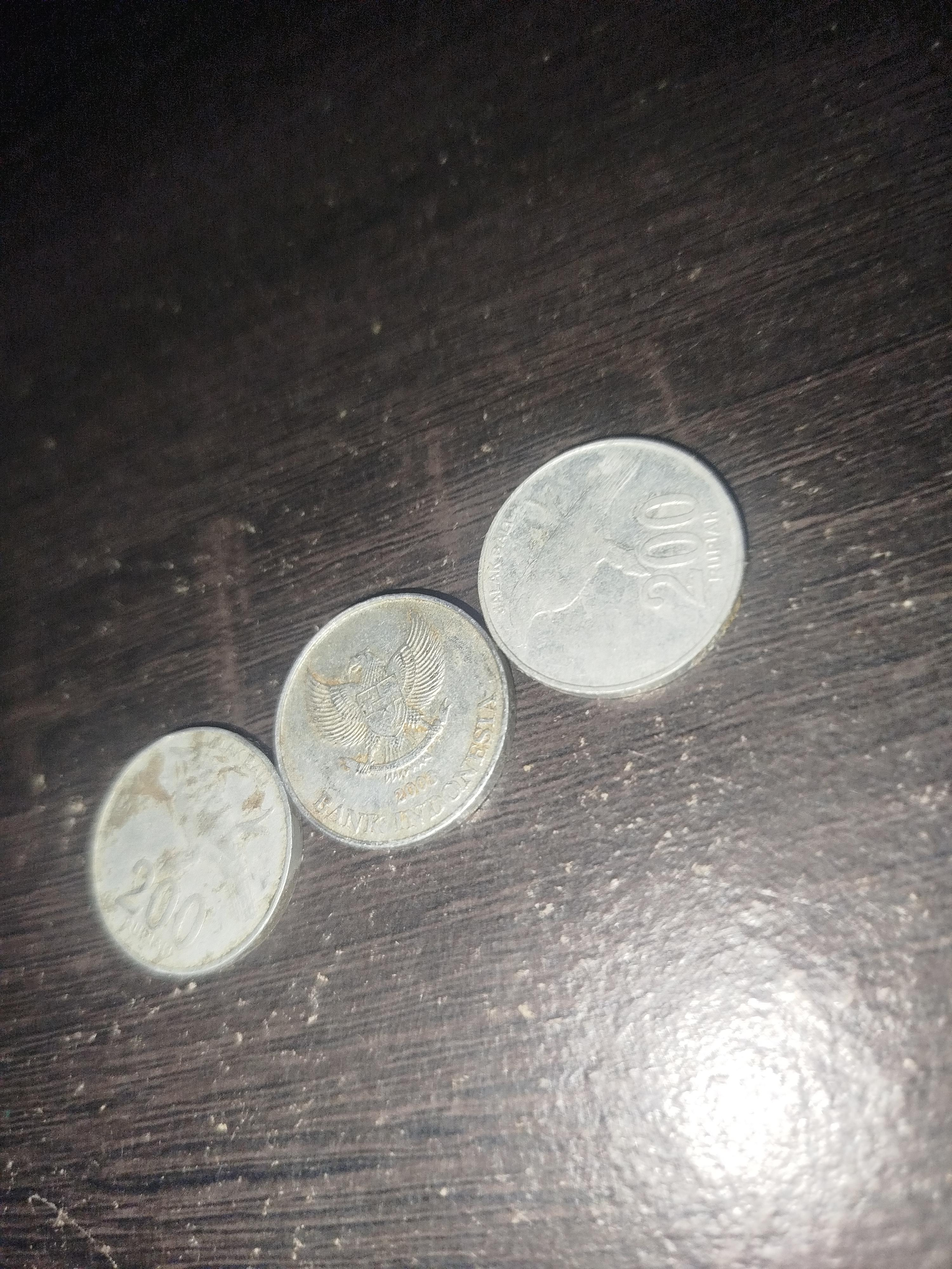coin_200_e2003: (476, 429, 753, 704), (270, 591, 514, 851), (83, 730, 283, 981)
